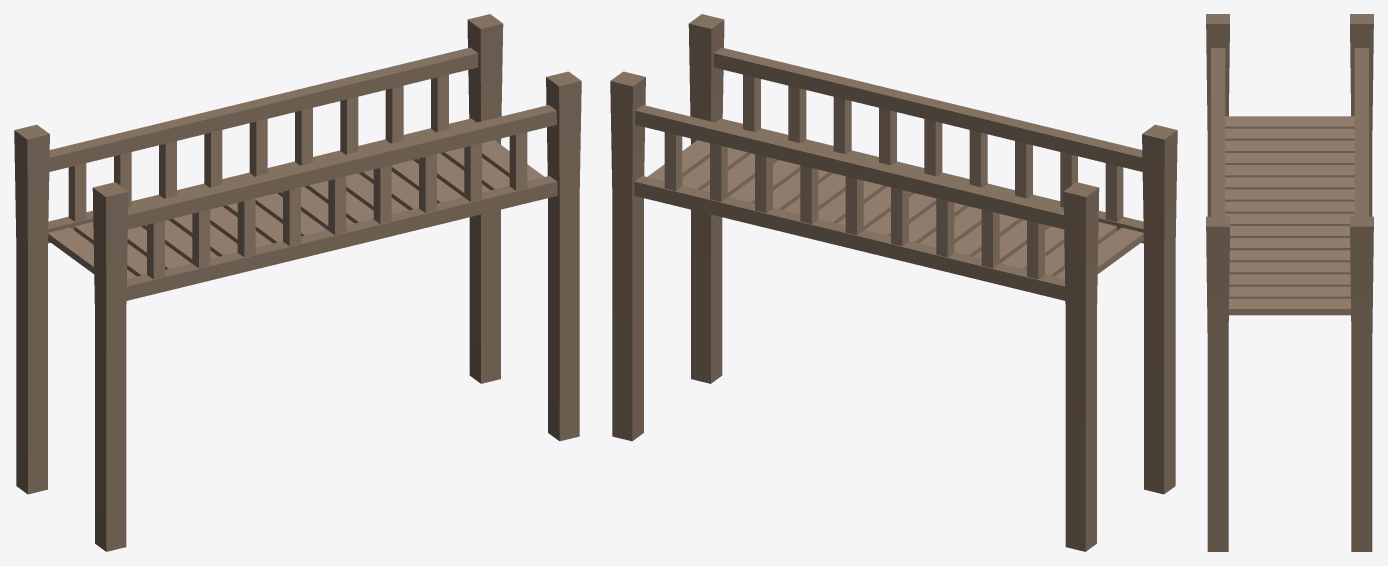
File: Bridge.fbx
3 views of the same model, side by side, from view 1: azimuth 30°, elevation 25°; view 2: azimuth 150°, elevation 25°; view 3: azimuth 270°, elevation 25° (orthographic). The views are drawn at different scales.
Visible parts, largest first — view 1: brigdePole, brigdePole2, brigdePole1, bridgeTop1, bridgeTop, brigdePole3, bridgeBottom, bridgeBottom1, BridgePlank, brigeMiniPole6, brigeMiniPole9, brigeMiniPole22 (+29 smaller); view 2: brigdePole2, brigdePole, brigdePole3, bridgeTop, bridgeTop1, brigdePole1, bridgeBottom1, bridgeBottom, BridgePlank, brigeMiniPole21, brigeMiniPole18, brigeMiniPole5 (+29 smaller); view 3: brigdePole3, brigdePole1, bridgeTop1, bridgeTop, BridgePlank15, brigdePole2, brigdePole, BridgePlank7, BridgePlank6, BridgePlank5, BridgePlank4, BridgePlank2 (+10 smaller).
Boxes of the visible parts, bbox=[...] form: brigdePole: bbox=[92, 182, 128, 551]; brigdePole2: bbox=[14, 124, 49, 494]; brigdePole1: bbox=[546, 71, 581, 441]; bridgeTop1: bbox=[49, 47, 478, 171]; bridgeTop: bbox=[128, 105, 556, 229]; brigdePole3: bbox=[467, 14, 503, 383]; bridgeBottom: bbox=[126, 176, 557, 300]; bridgeBottom1: bbox=[48, 118, 476, 243]; BridgePlank: bbox=[48, 227, 136, 278]; brigeMiniPole6: bbox=[192, 209, 210, 268]; brigeMiniPole9: bbox=[328, 176, 346, 234]; brigeMiniPole22: bbox=[68, 163, 86, 221]; brigdePole2: bbox=[1063, 182, 1099, 551]; brigdePole: bbox=[1142, 124, 1177, 494]; brigdePole3: bbox=[610, 71, 645, 441]; bridgeTop: bbox=[713, 47, 1142, 171]; bridgeTop1: bbox=[635, 105, 1063, 229]; brigdePole1: bbox=[688, 14, 724, 383]; bridgeBottom1: bbox=[634, 176, 1065, 300]; bridgeBottom: bbox=[715, 118, 1143, 243]; BridgePlank: bbox=[1055, 227, 1143, 278]; brigeMiniPole21: bbox=[981, 209, 999, 268]; brigeMiniPole18: bbox=[845, 176, 863, 234]; brigeMiniPole5: bbox=[1105, 163, 1123, 221]; brigdePole3: bbox=[1350, 216, 1373, 551]; brigdePole1: bbox=[1206, 216, 1229, 551]; bridgeTop1: bbox=[1354, 48, 1368, 216]; bridgeTop: bbox=[1211, 48, 1225, 216]; BridgePlank15: bbox=[1229, 298, 1350, 315]; brigdePole2: bbox=[1350, 14, 1373, 216]; brigdePole: bbox=[1206, 14, 1229, 216]; BridgePlank7: bbox=[1225, 201, 1354, 213]; BridgePlank6: bbox=[1225, 189, 1354, 201]; BridgePlank5: bbox=[1225, 177, 1354, 189]; BridgePlank4: bbox=[1225, 165, 1354, 177]; BridgePlank2: bbox=[1225, 140, 1354, 152].
Size of the model in its own units: 21 by 15 by 7.
